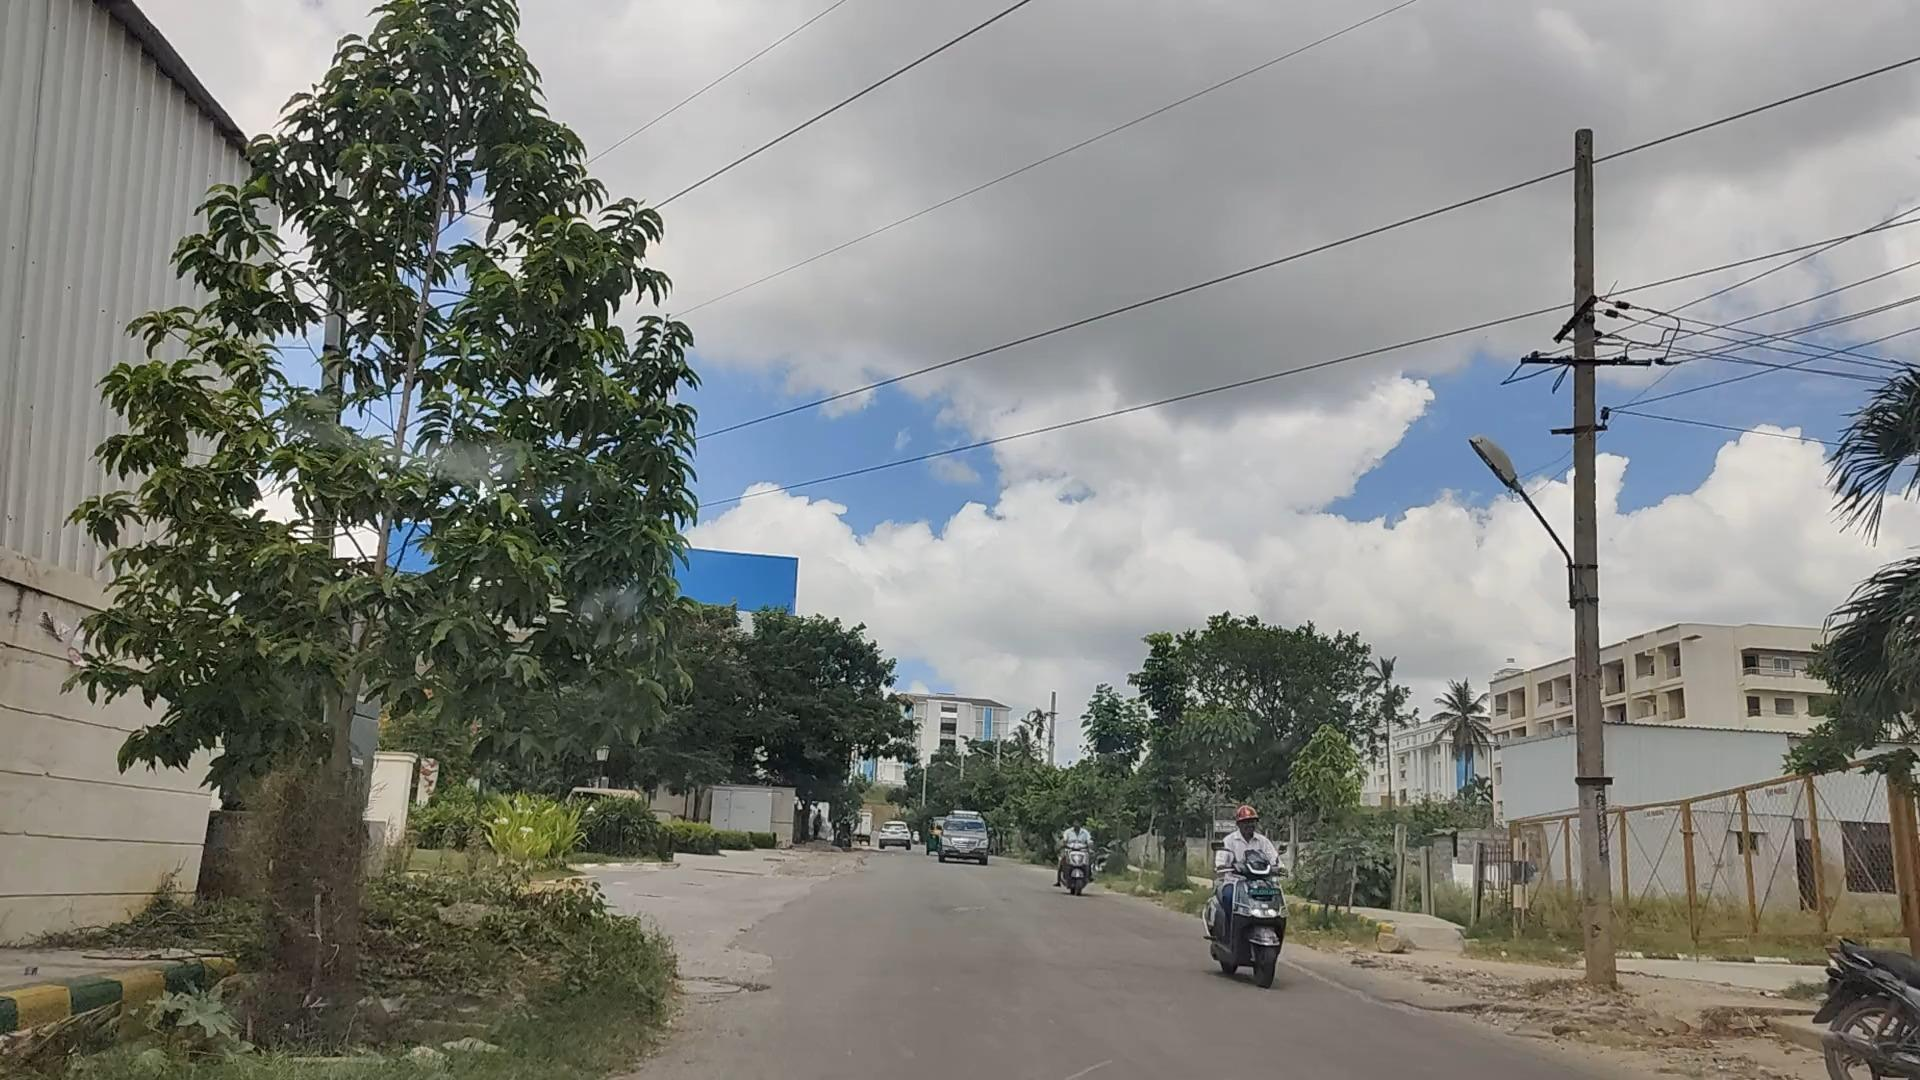RoadDamages: (678, 936, 823, 1031)
